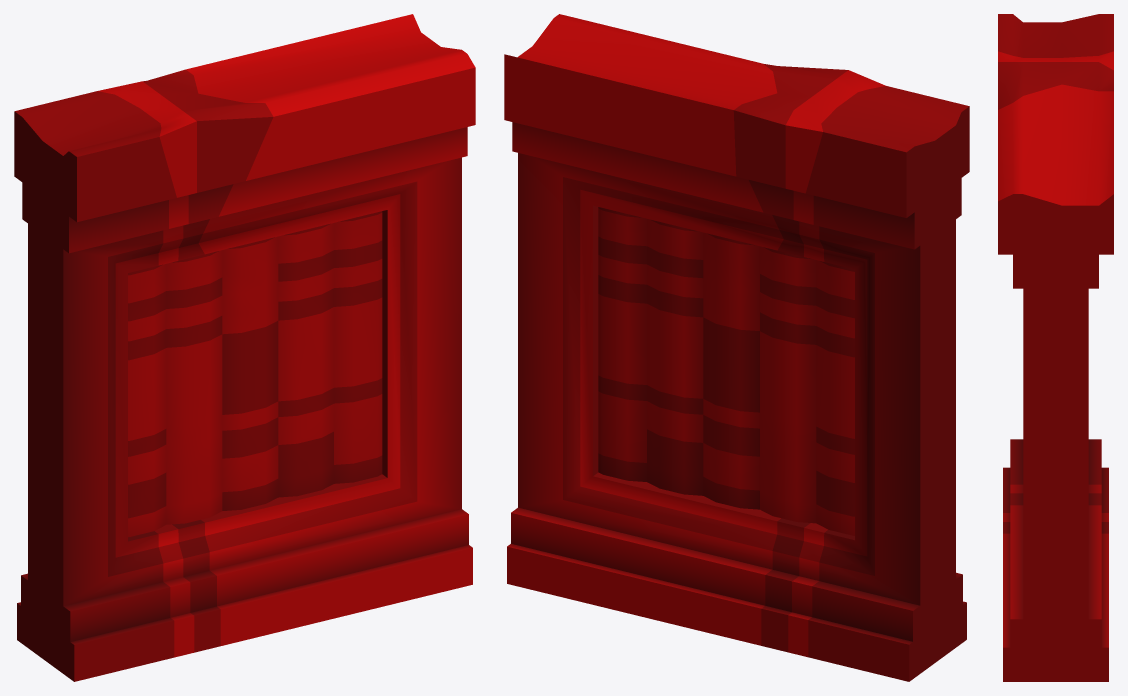
Rendered from buildings-ruins-templeruins_v2.fbx.
3 renders of one model, left to right at view 1: azimuth 30°, elevation 25°; view 2: azimuth 150°, elevation 25°; view 3: azimuth 270°, elevation 25°, orthographic. The views are drawn at different scales.
Visible parts, largest first — view 1: TempleRuins_v2; view 2: TempleRuins_v2; view 3: TempleRuins_v2.
Part boxes in pixels (x1,y1,x2,y2): TempleRuins_v2: (14,14,475,681); TempleRuins_v2: (504,14,969,681); TempleRuins_v2: (998,14,1113,681).
Bounding box in the file's own units: 4.48 × 5.73 × 1.22.
